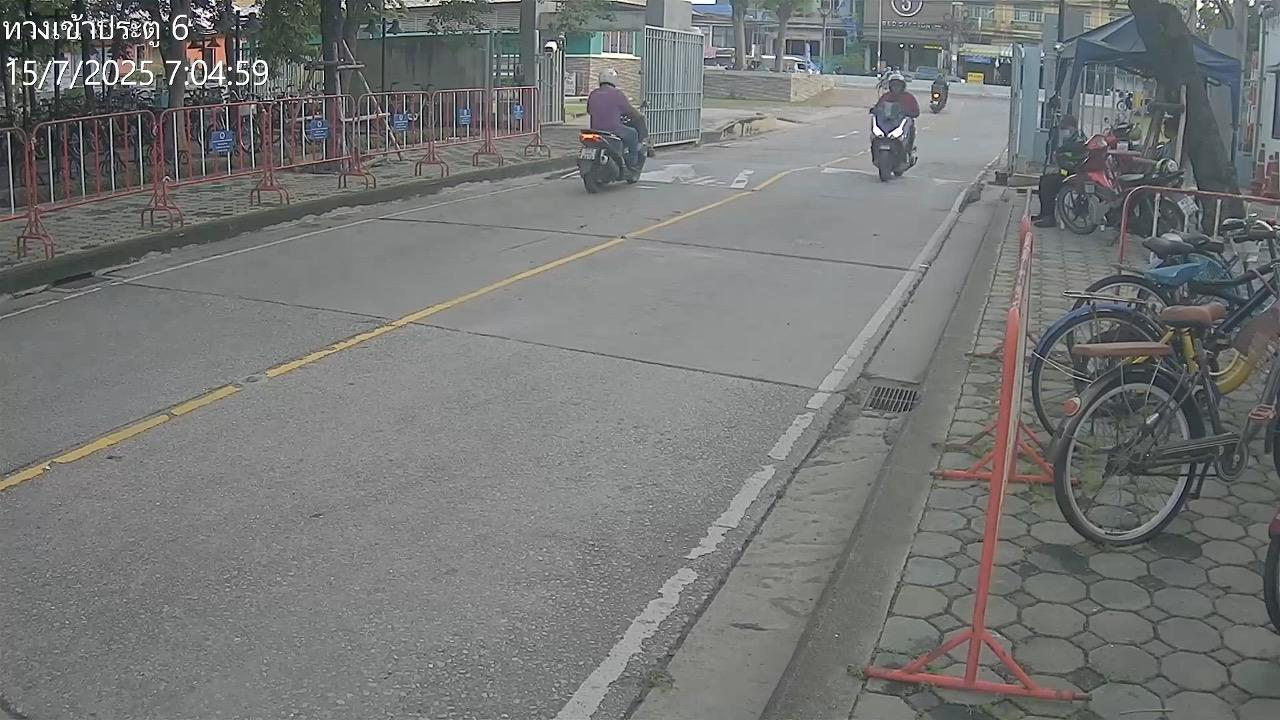With-Helmet: (598, 66, 619, 86), (888, 74, 907, 92)
